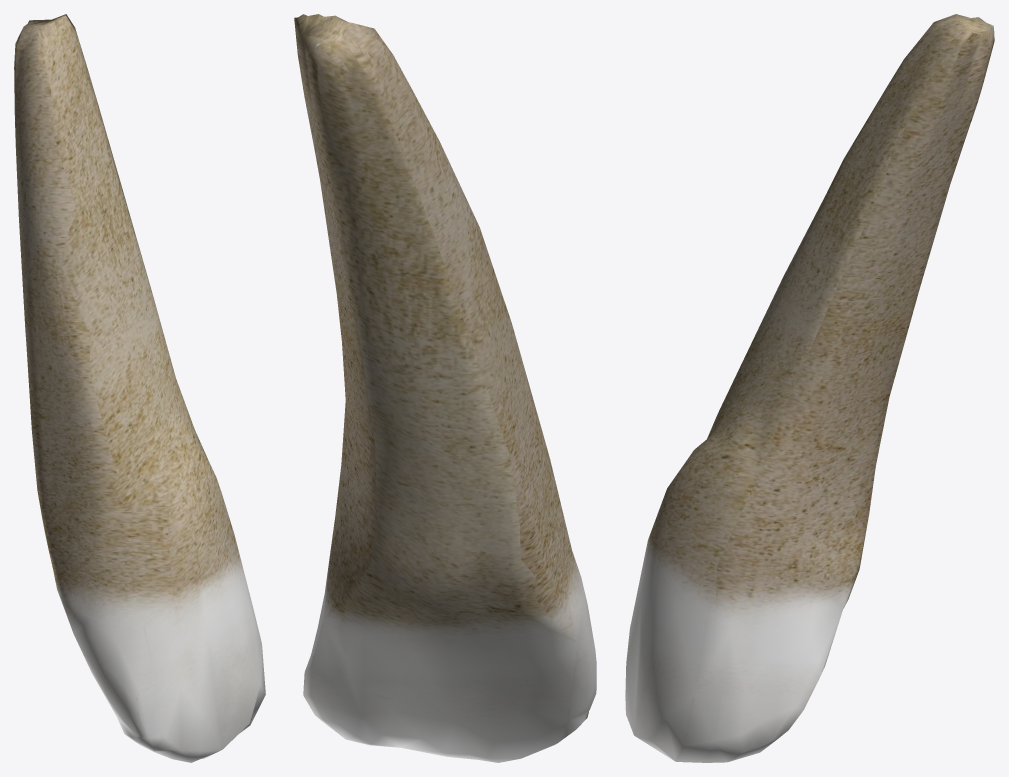
File: хоншоорын хажуугийн үүдэн шүд.fbx
The picture shows the model from 3 angles, left to right: view 1: azimuth 30°, elevation 25°; view 2: azimuth 150°, elevation 25°; view 3: azimuth 270°, elevation 25°; orthographic projection. The views are drawn at different scales.
Parts seen in each view (by area): view 1: polySurface40; view 2: polySurface40; view 3: polySurface40.
Part boxes in pixels (x1=…): polySurface40: x1=14, y1=14, x2=265, y2=762; polySurface40: x1=294, y1=14, x2=596, y2=762; polySurface40: x1=625, y1=14, x2=994, y2=762.
Size of the model in its own units: 3.24 by 10.93 by 5.08.
1 material, 1 textured.
